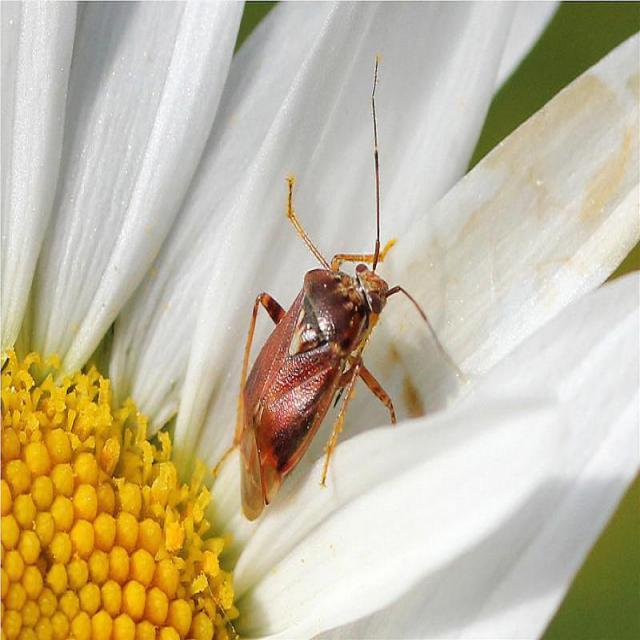Miridae-Adult-: (209, 53, 426, 531)
